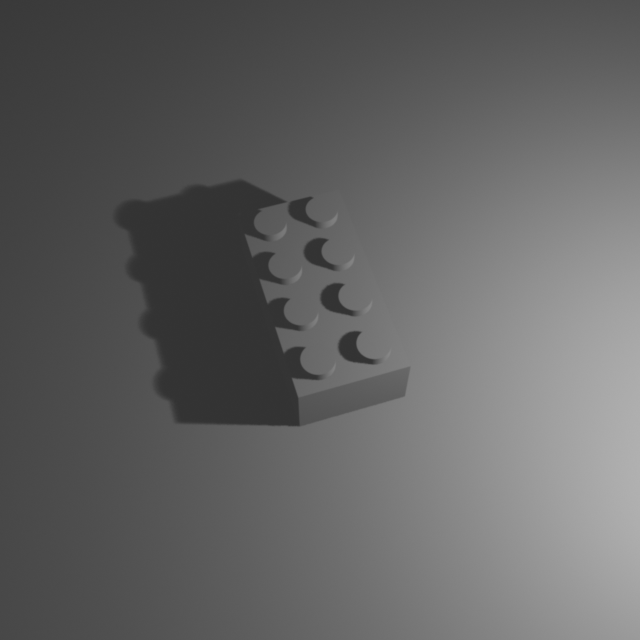lego_2x4: (237, 183, 412, 426)
